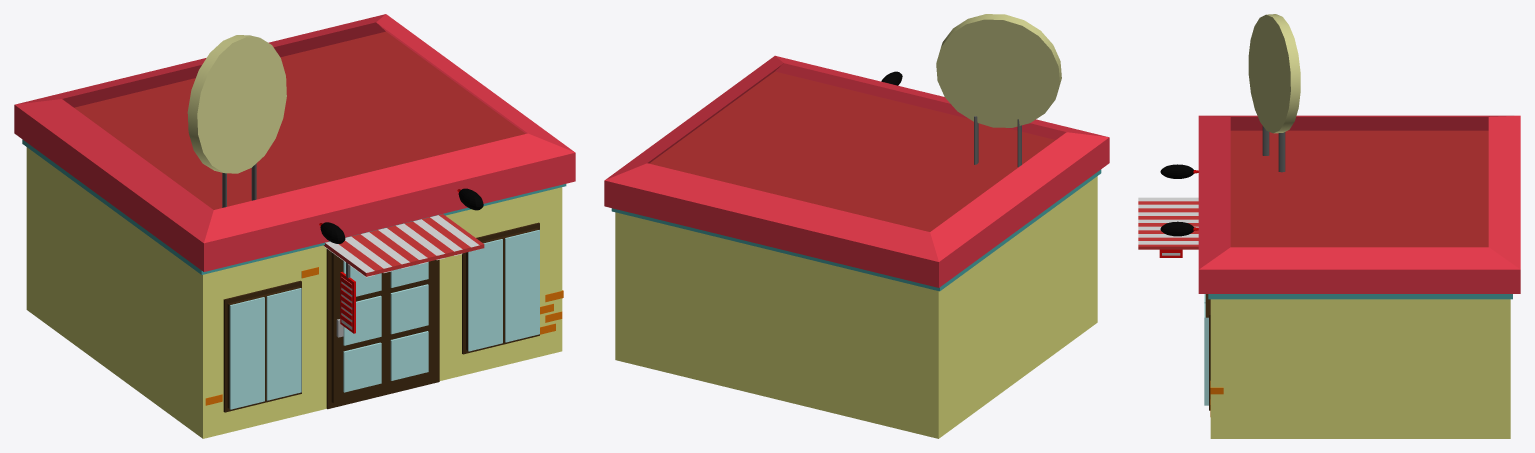
Rendered from Building 1.fbx.
The picture shows the model from 3 angles, left to right: view 1: azimuth 30°, elevation 25°; view 2: azimuth 150°, elevation 25°; view 3: azimuth 270°, elevation 25°; orthographic projection. The views are drawn at different scales.
Parts seen in each view (by area): view 1: pCube35; view 2: pCube35; view 3: pCube35.
Part boxes in pixels (bbox=[...]): pCube35: bbox=[14, 14, 575, 438]; pCube35: bbox=[604, 14, 1109, 438]; pCube35: bbox=[1138, 14, 1520, 438].
Size of the model in its own units: 23.63 by 21.44 by 24.78.
